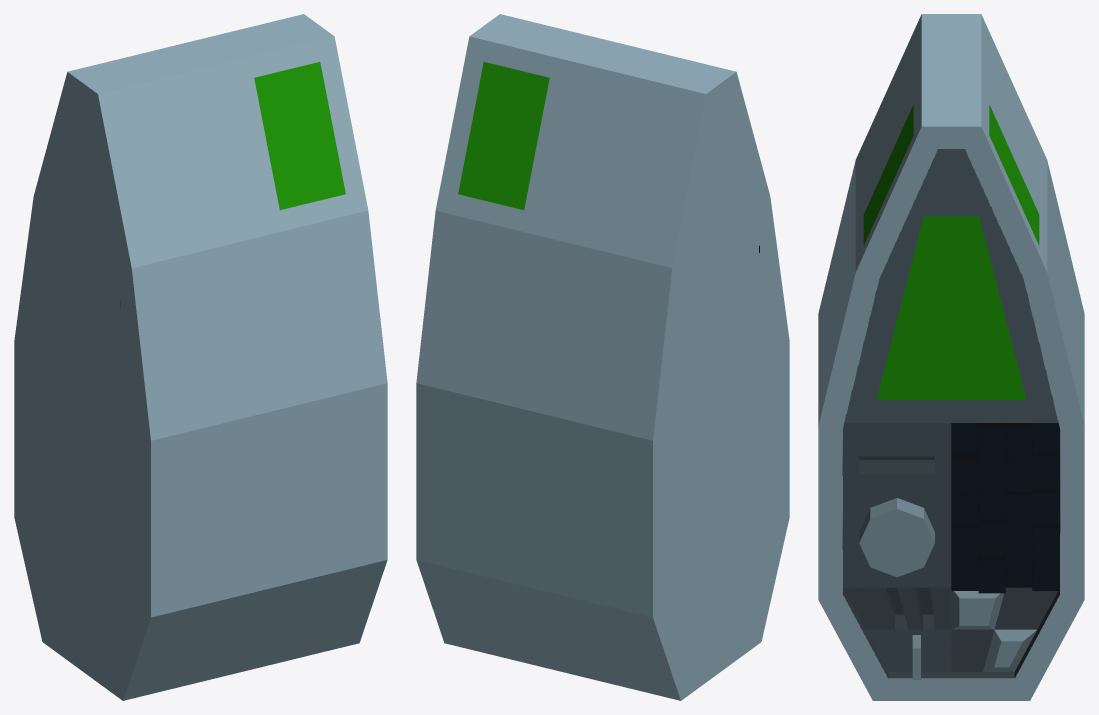
The model's file is Control Panel.fbx.
3 views of the same model, side by side, from view 1: azimuth 30°, elevation 25°; view 2: azimuth 150°, elevation 25°; view 3: azimuth 270°, elevation 25° (orthographic). The views are drawn at different scales.
Visible parts, largest first — view 1: Control Panel; view 2: Control Panel; view 3: Control Panel.
Part boxes in pixels (<box>): Control Panel: <box>14,14,387,700</box>; Control Panel: <box>416,14,789,700</box>; Control Panel: <box>818,14,1084,700</box>.
Bounding box in the file's own units: 200 × 212 × 475.
